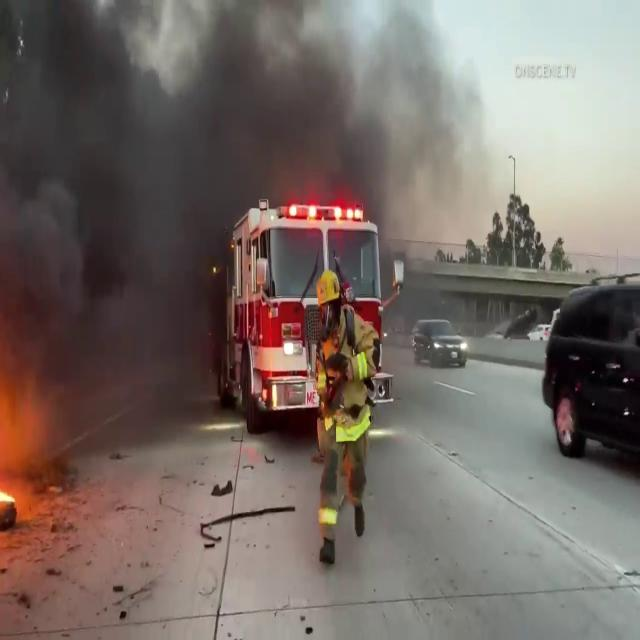Smoke: (0, 0, 224, 437), (96, 1, 496, 224)
